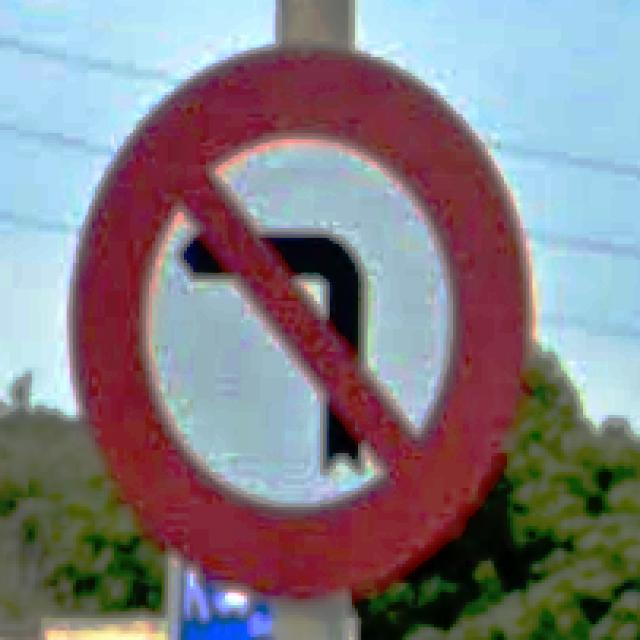noturnleft: (70, 44, 532, 611)
